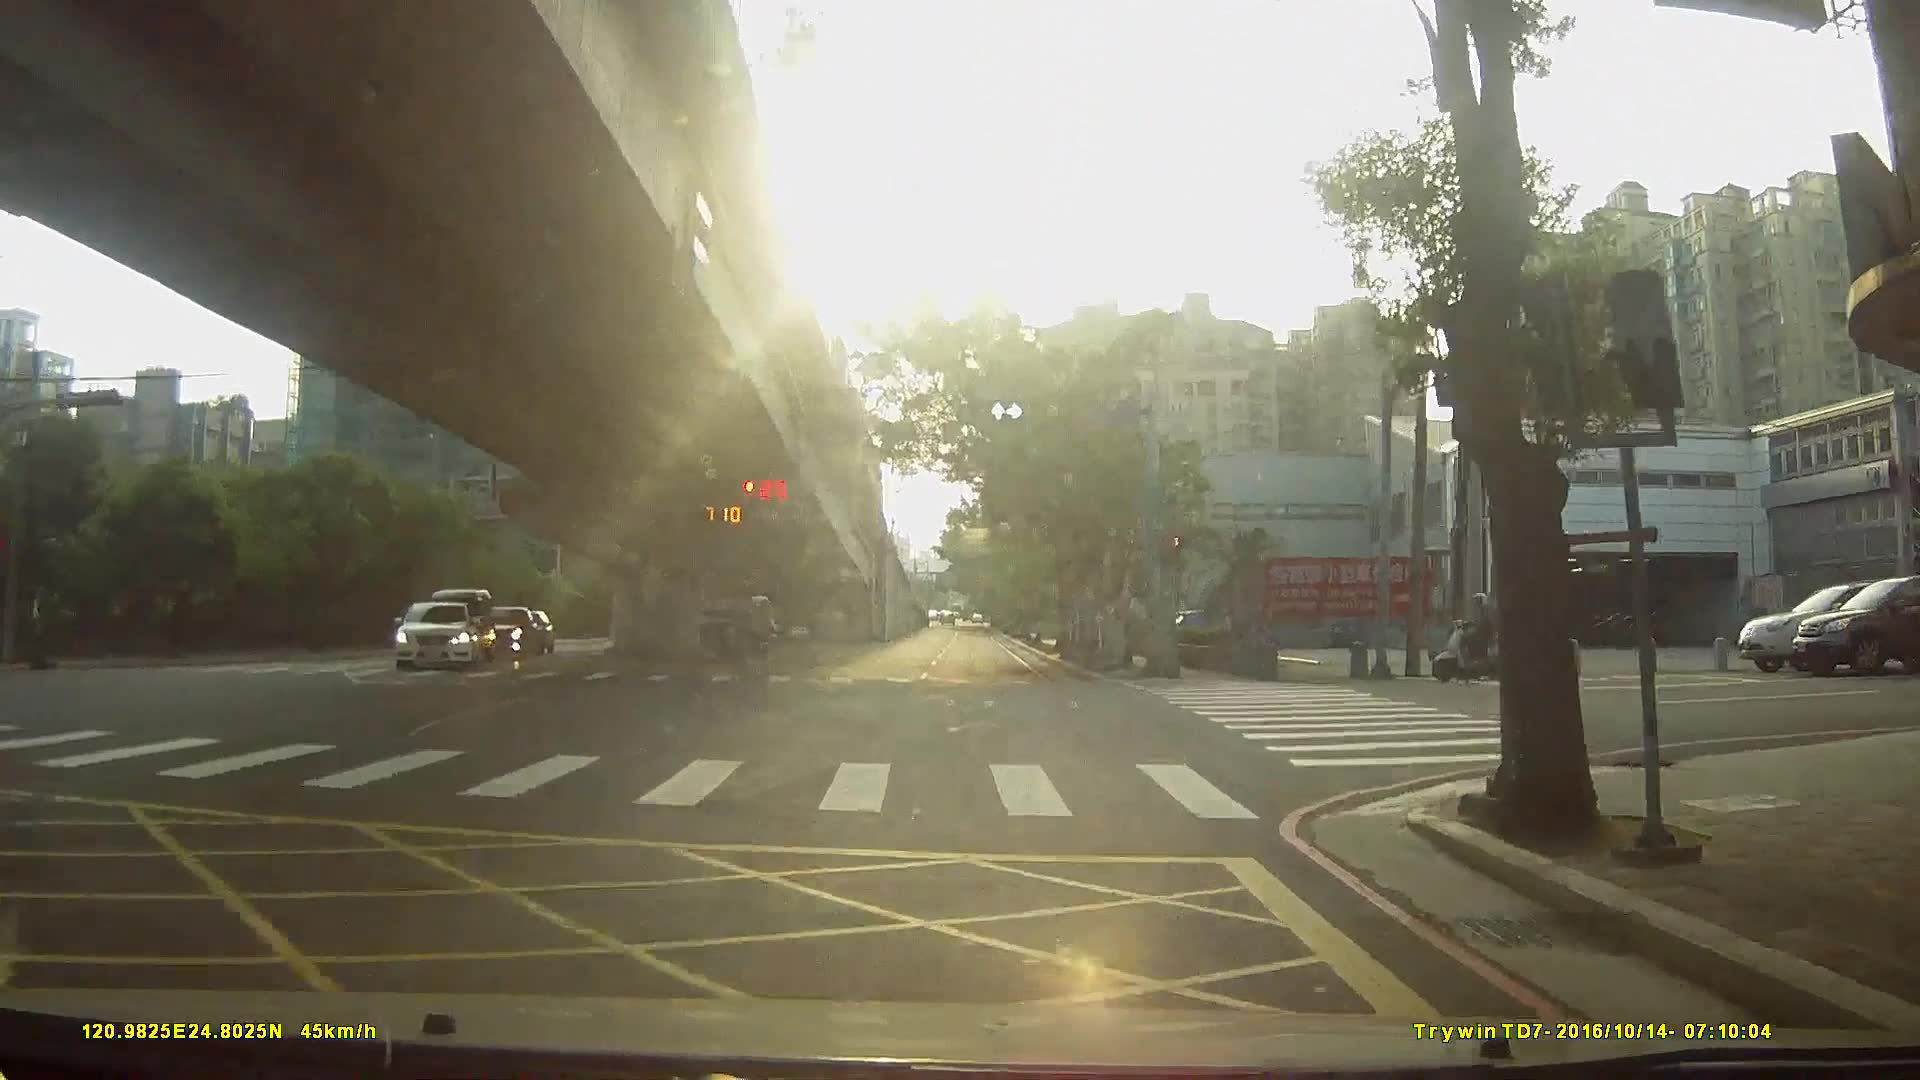rider: (1435, 593, 1519, 683)
vehicle: (1745, 579, 1920, 673), (1799, 574, 1920, 676), (388, 599, 474, 671), (671, 600, 772, 658), (468, 604, 538, 656)
